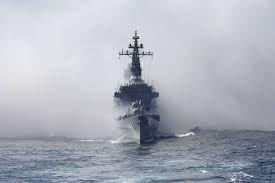MIL_Ship: (110, 28, 161, 144)
